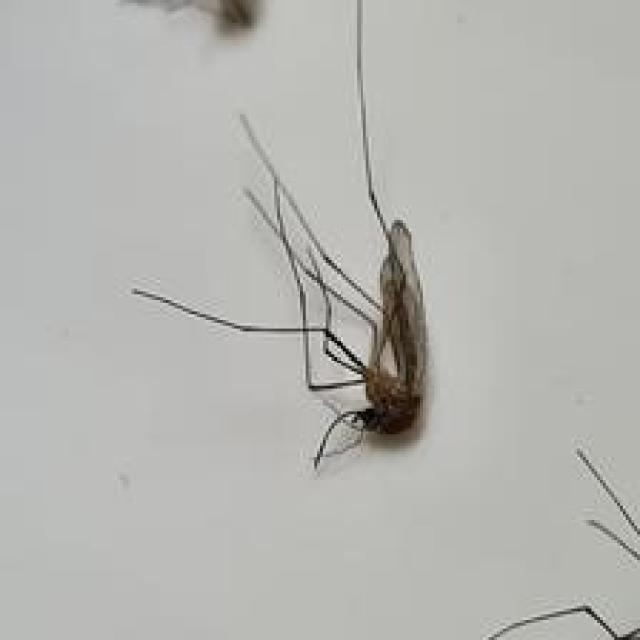Culex: (130, 0, 430, 471)
